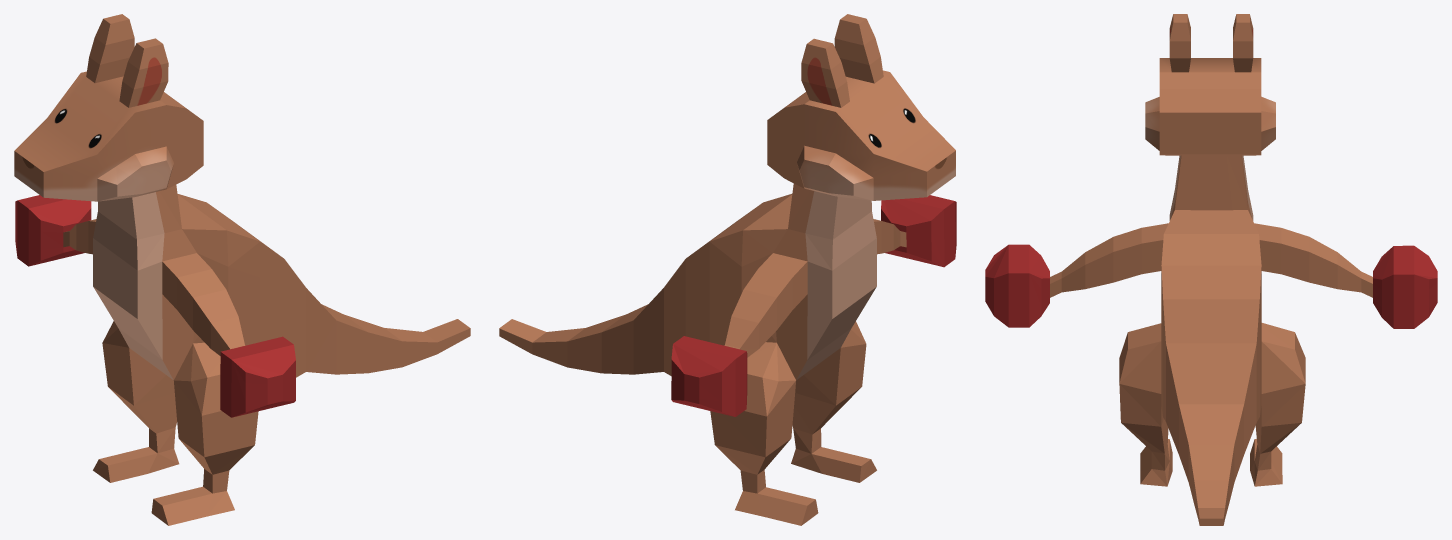
File: kaaaang.fbx
3 renders of one model, left to right at view 1: azimuth 30°, elevation 25°; view 2: azimuth 150°, elevation 25°; view 3: azimuth 270°, elevation 25°, orthographic. The views are drawn at different scales.
Visible parts, largest first — view 1: Box001; view 2: Box001; view 3: Box001.
Boxes of the visible parts, left/top/right/bottom form: Box001: left=14, top=14, right=470, bottom=525; Box001: left=499, top=14, right=956, bottom=525; Box001: left=985, top=14, right=1437, bottom=525.
Bounding box in the file's own units: 161 × 165 × 155.
1 material, 1 textured.
